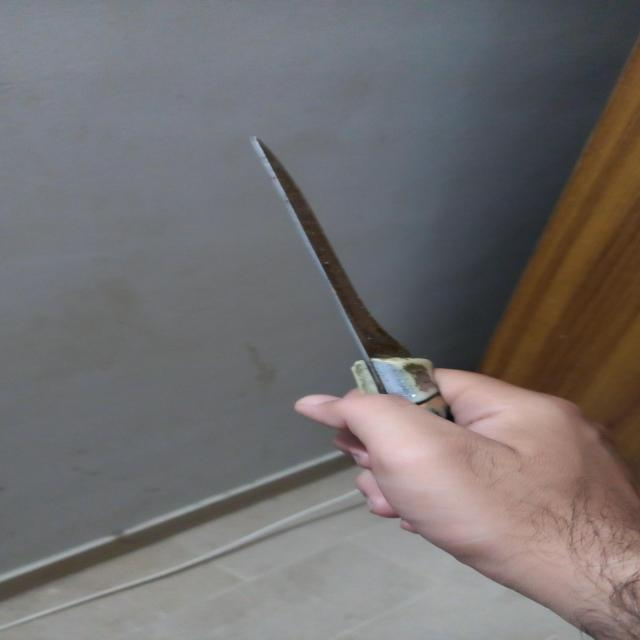Knife: (253, 136, 466, 430)
Person: (283, 361, 639, 640)
